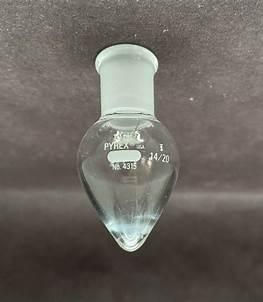Pear shaped flask: (64, 42, 181, 257)
